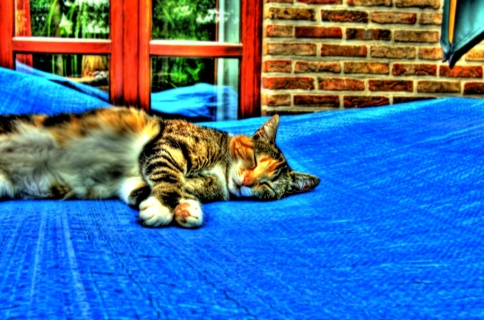Cat: (0, 103, 321, 229)
